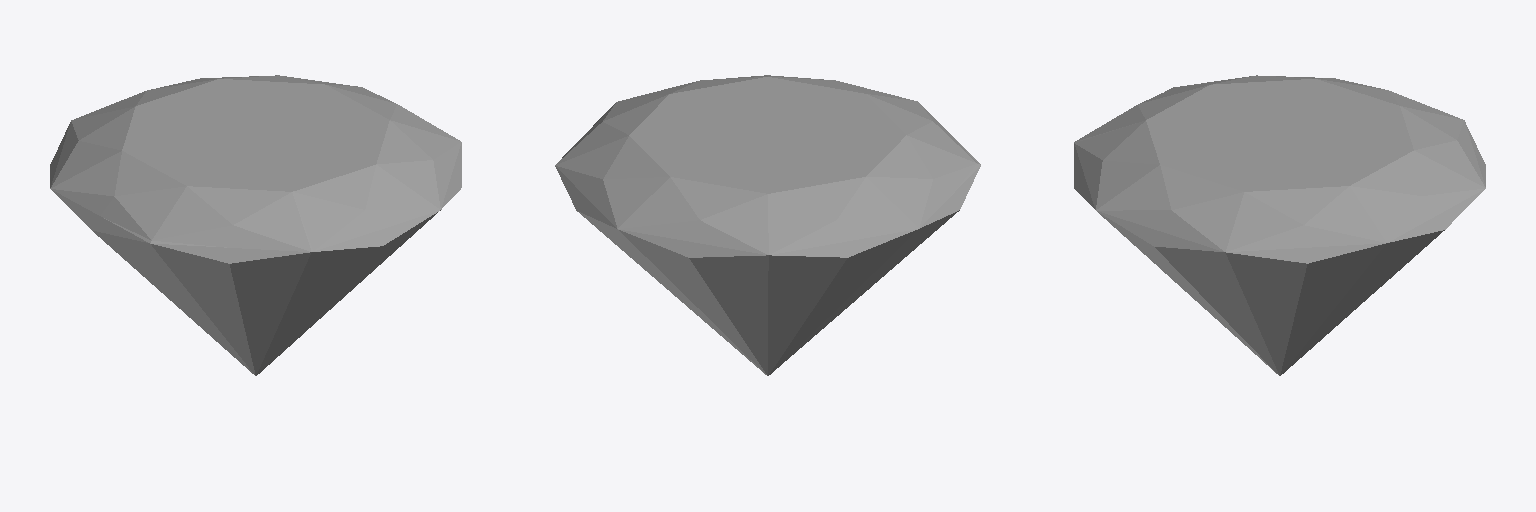
The model's file is DIAMOND.obj.
The picture shows the model from 3 angles: view 1: azimuth 30°, elevation 25°; view 2: azimuth 150°, elevation 25°; view 3: azimuth 270°, elevation 25°; orthographic projection.
Parts seen in each view (by area): view 1: Diamond_Cone; view 2: Diamond_Cone; view 3: Diamond_Cone.
Part boxes in pixels (left/top/right/bottom): Diamond_Cone: left=50, top=75, right=461, bottom=375; Diamond_Cone: left=555, top=75, right=980, bottom=375; Diamond_Cone: left=1074, top=75, right=1485, bottom=375.
Bounding box in the file's own units: 3.28 × 2.12 × 3.28.